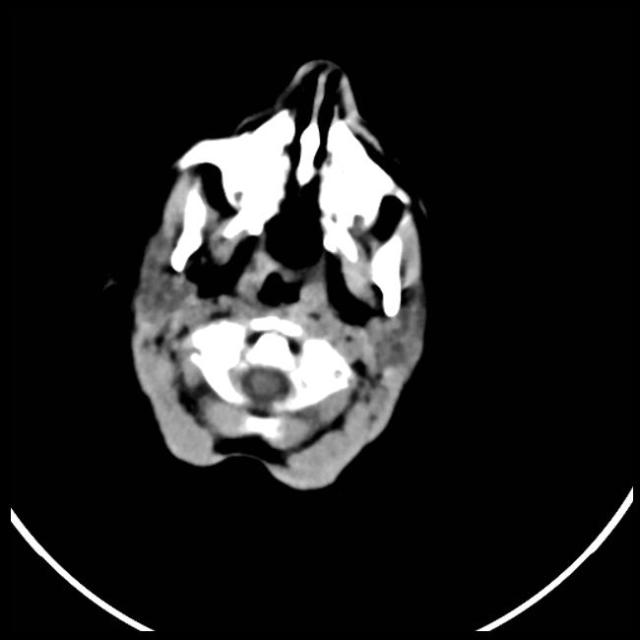lesion: (122, 54, 437, 494)
